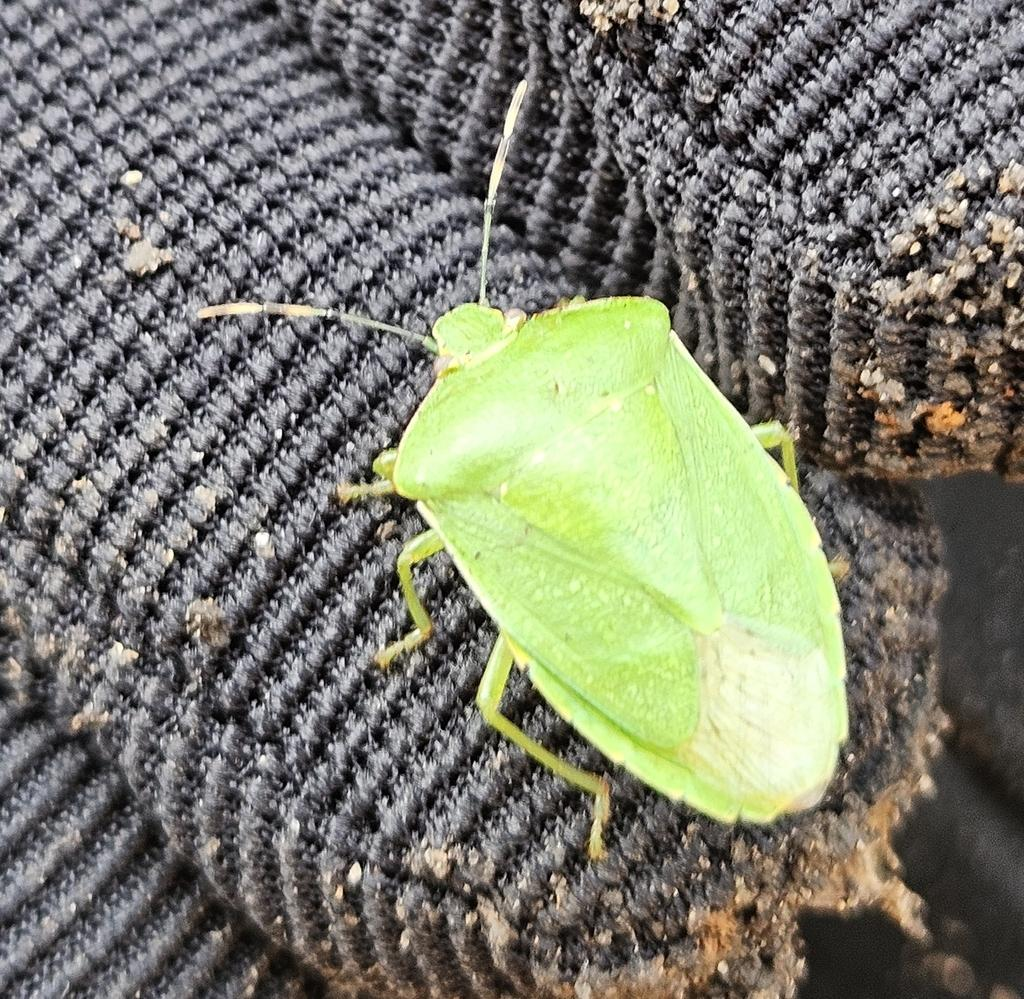stink_bugs: (135, 29, 994, 934)
